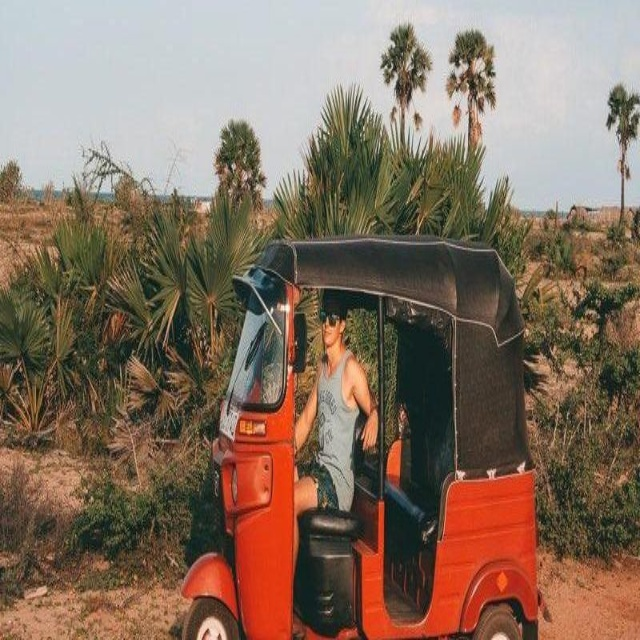Motorcycle: (181, 238, 538, 640)
